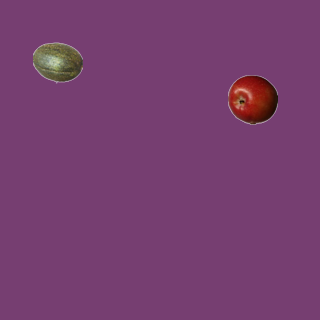Apple Braeburn: (227, 74, 277, 124)
Melon Piel de Sapo: (32, 37, 82, 87)
